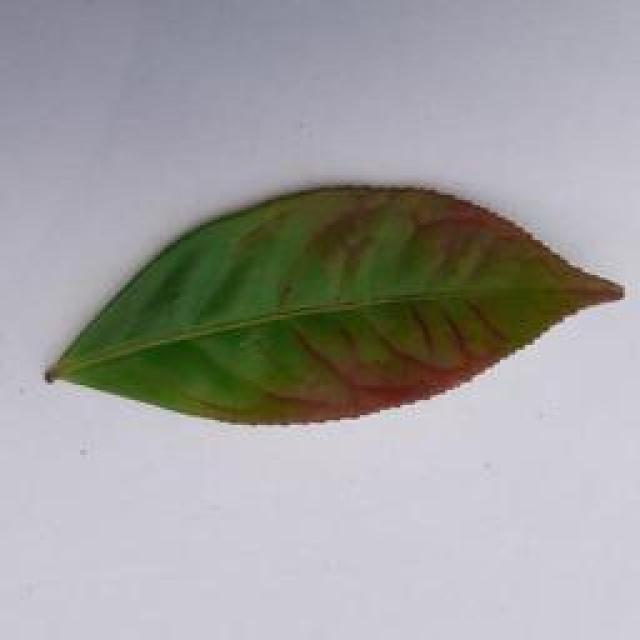Red Leaf Spot: (30, 177, 630, 428)
